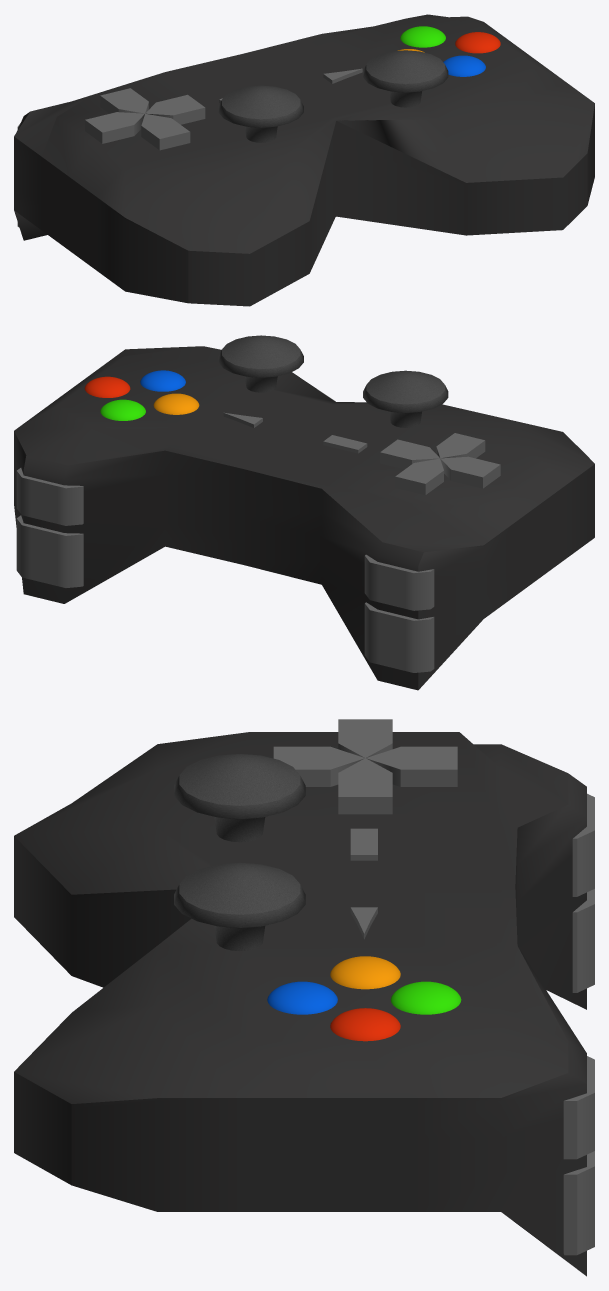
File: joystick.FBX
The picture shows the model from 3 angles, top to bottom: view 1: azimuth 30°, elevation 25°; view 2: azimuth 150°, elevation 25°; view 3: azimuth 270°, elevation 25°; orthographic projection. The views are drawn at different scales.
Visible parts, largest first — view 1: Box001, Cylinder002, Cylinder001, Box008, Box009, Box007, Box006, Sphere001, Sphere003, Sphere002; view 2: Box001, Box003, Box004, Cylinder002, Cylinder001, Box002, Box005, Box008, Box006, Box007, Box009, Sphere002 (+4 smaller); view 3: Box001, Cylinder001, Cylinder002, Box006, Box004, Box007, Box009, Box005, Box003, Box008, Sphere004, Sphere001 (+4 smaller).
Boxes of the visible parts, x1,y1,x2,y2 form: Box001: [14, 14, 594, 306]; Cylinder002: [363, 50, 448, 107]; Cylinder001: [218, 85, 303, 142]; Box008: [85, 112, 144, 143]; Box009: [141, 113, 190, 150]; Box007: [145, 94, 205, 124]; Box006: [100, 88, 148, 113]; Sphere001: [400, 26, 445, 47]; Sphere003: [455, 32, 500, 53]; Sphere002: [443, 55, 485, 76]; Box001: [14, 346, 594, 690]; Box003: [364, 602, 434, 672]; Box004: [16, 515, 83, 587]; Cylinder002: [218, 335, 303, 392]; Cylinder001: [363, 370, 448, 427]; Box002: [364, 554, 434, 610]; Box005: [16, 468, 83, 525]; Box008: [440, 456, 500, 488]; Box006: [395, 458, 443, 494]; Box007: [380, 439, 439, 469]; Box009: [436, 433, 485, 458]; Sphere002: [140, 370, 185, 391]; Box001: [14, 732, 586, 1276]; Cylinder001: [174, 754, 305, 842]; Cylinder002: [174, 862, 305, 950]; Box006: [366, 746, 457, 786]; Box004: [563, 1151, 594, 1255]; Box007: [338, 758, 392, 814]; Box009: [273, 746, 364, 786]; Box005: [563, 1056, 594, 1159]; Box003: [572, 889, 594, 992]; Box008: [338, 719, 392, 757]; Sphere004: [330, 956, 400, 989]; Sphere001: [390, 981, 461, 1014].
Bounding box in the file's own units: 99.17 × 40.82 × 68.79.
17 materials, 17 textured.
